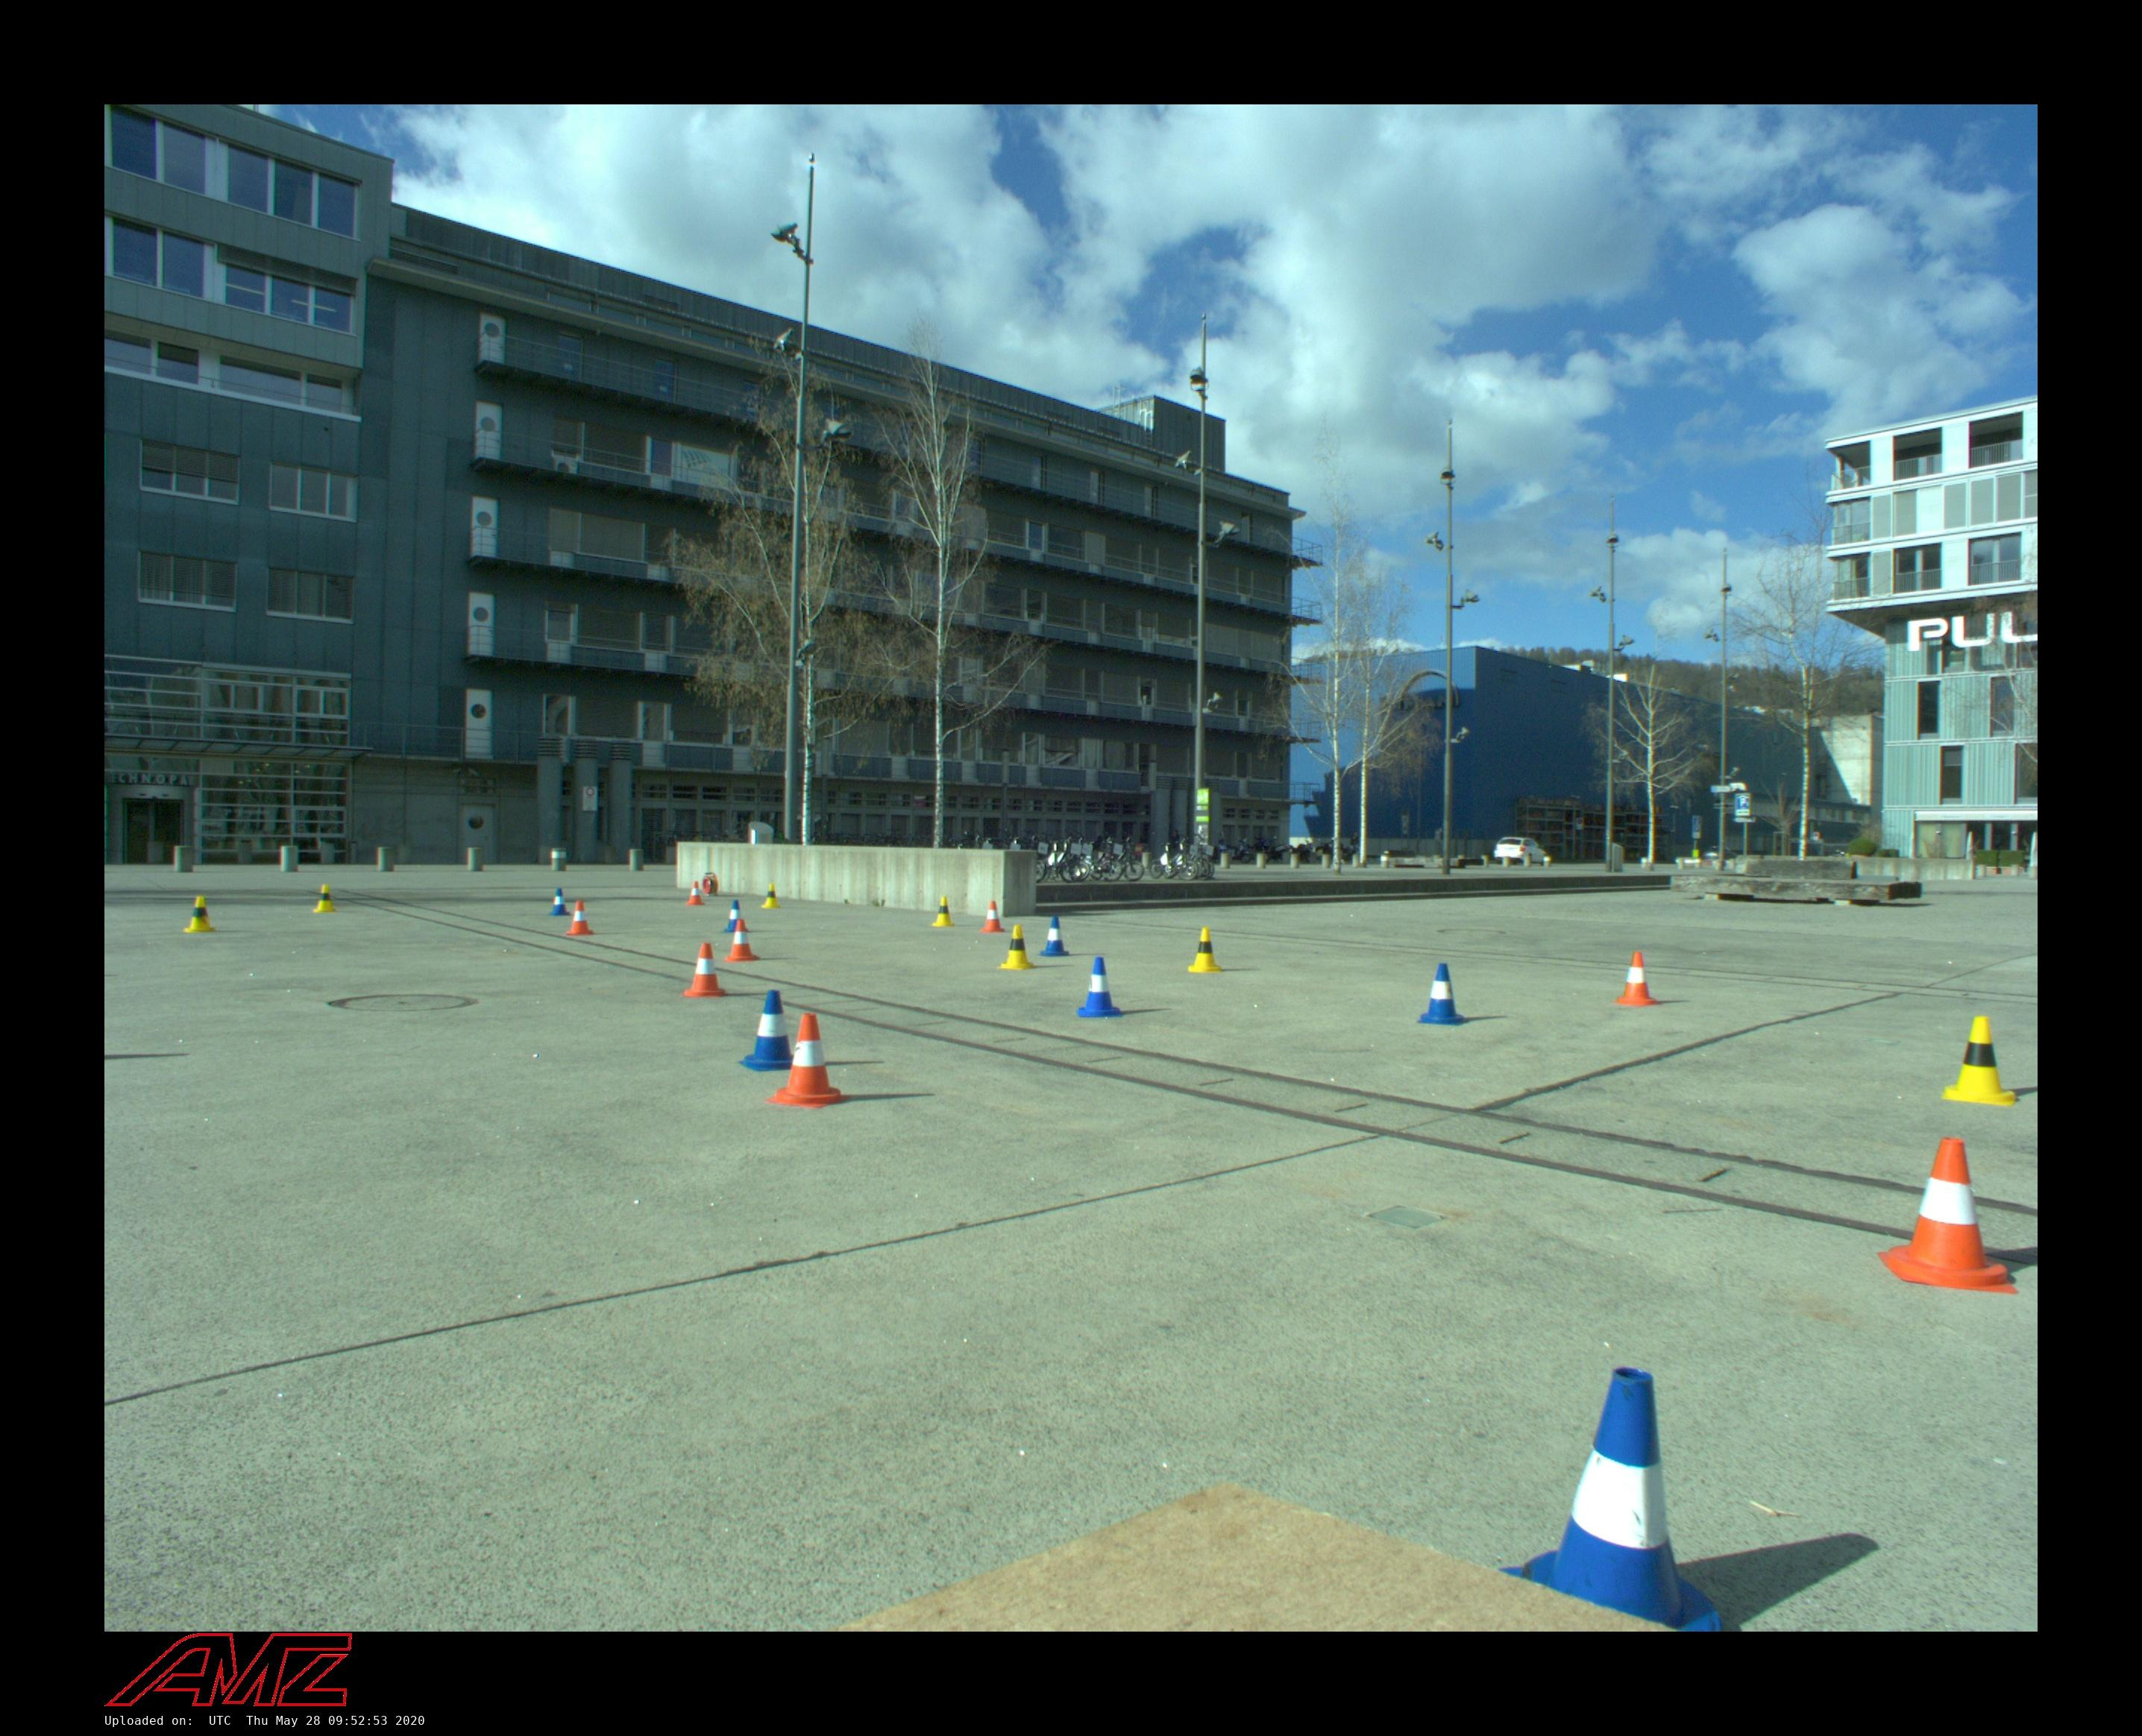blue_cone: (1501, 1366, 1738, 1631), (739, 990, 806, 1072), (1416, 962, 1472, 1026), (1075, 957, 1123, 1019), (1038, 916, 1074, 957), (721, 900, 753, 934), (549, 887, 572, 916)
orange_cone: (1878, 1141, 2018, 1293), (764, 1013, 852, 1109), (1612, 953, 1664, 1008), (680, 942, 730, 999), (723, 919, 760, 962), (567, 900, 595, 935), (980, 902, 1008, 934), (684, 882, 707, 905)
yellow_cone: (1942, 1015, 2018, 1109), (997, 925, 1038, 971), (1189, 926, 1222, 974), (184, 896, 218, 934), (932, 896, 958, 928), (314, 884, 340, 914), (760, 884, 783, 911)
